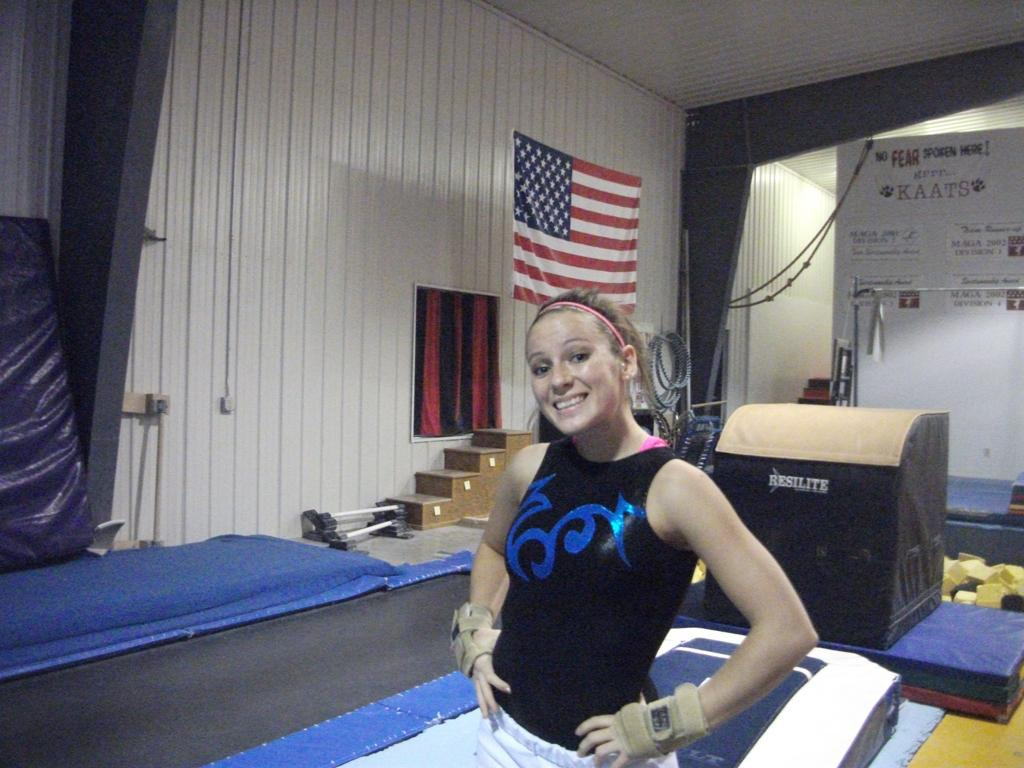face: (527, 317, 615, 435)
